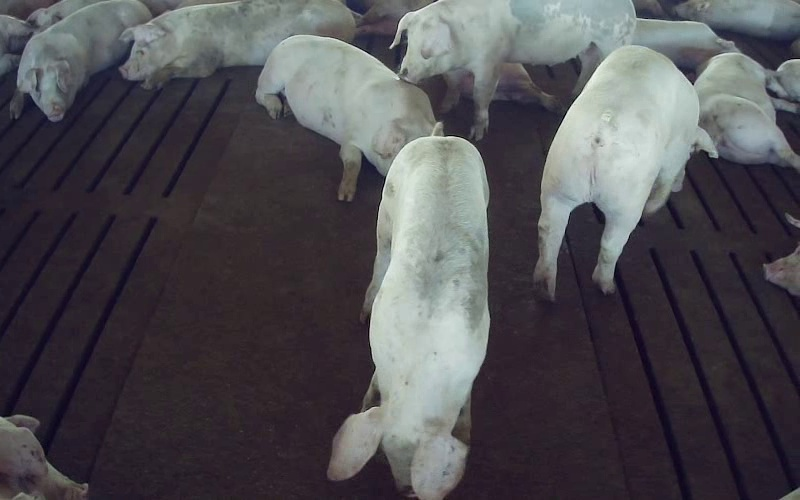pig: (327, 123, 489, 499), (534, 47, 717, 299), (393, 0, 635, 140), (256, 36, 435, 200), (120, 0, 355, 88), (694, 53, 799, 171)
